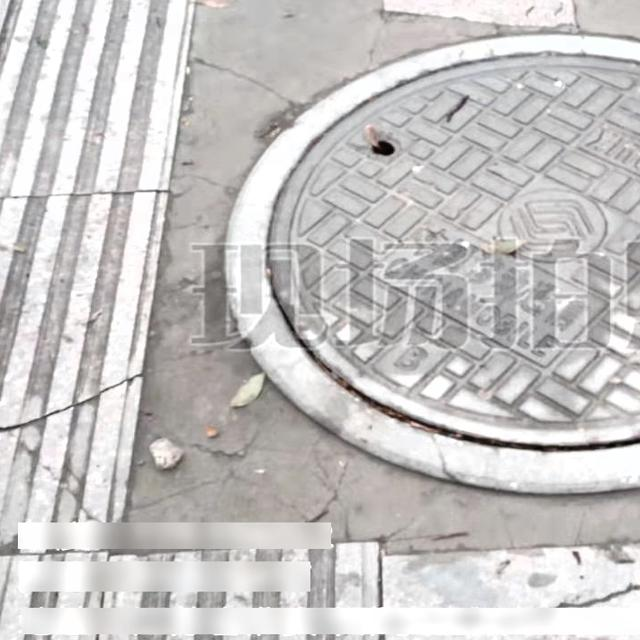good: (227, 31, 640, 494)
